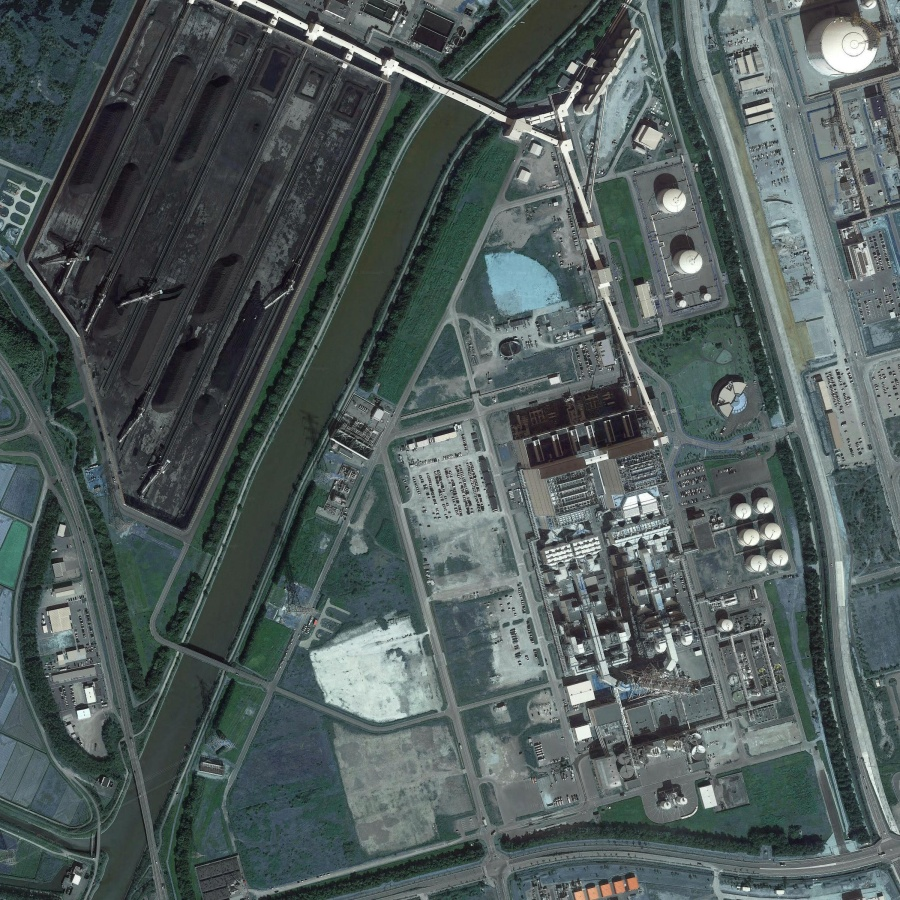PowerPlant: (520, 423, 800, 813)
